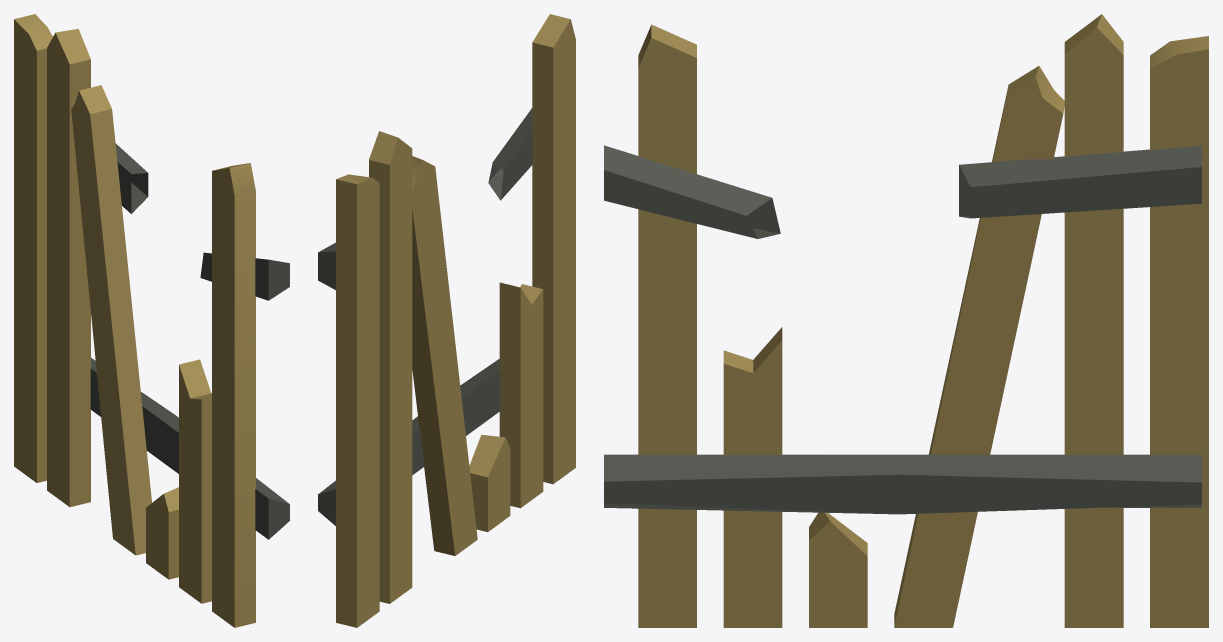
Rendered from Fence_Broken.fbx.
The picture shows the model from 3 angles, left to right: view 1: azimuth 30°, elevation 25°; view 2: azimuth 150°, elevation 25°; view 3: azimuth 270°, elevation 25°; orthographic projection. The views are drawn at different scales.
Parts seen in each view (by area): view 1: Cube.008, Cube.009, Cube.010; view 2: Cube.008, Cube.009, Cube.010; view 3: Cube.008, Cube.009, Cube.010.
Boxes of the visible parts, bbox=[...] form: Cube.008: bbox=[14, 14, 255, 627]; Cube.009: bbox=[90, 252, 289, 539]; Cube.010: bbox=[115, 143, 148, 213]; Cube.008: bbox=[336, 14, 575, 627]; Cube.009: bbox=[318, 108, 532, 525]; Cube.010: bbox=[318, 242, 335, 289]; Cube.008: bbox=[638, 14, 1208, 627]; Cube.009: bbox=[604, 145, 1201, 514]; Cube.010: bbox=[959, 145, 1201, 218].
Bounding box in the file's own units: 21.73 × 223 × 203.
